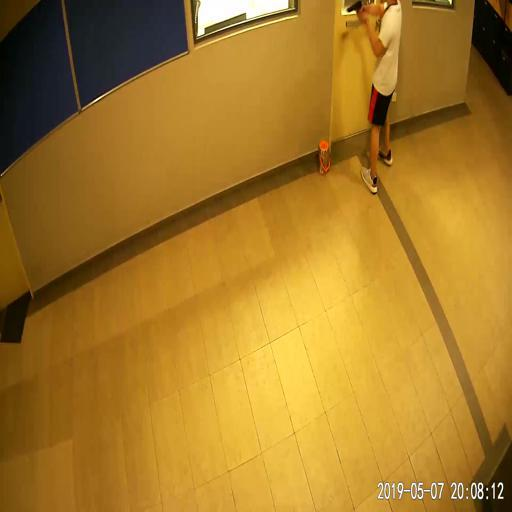Handgun: (345, 0, 362, 16)
